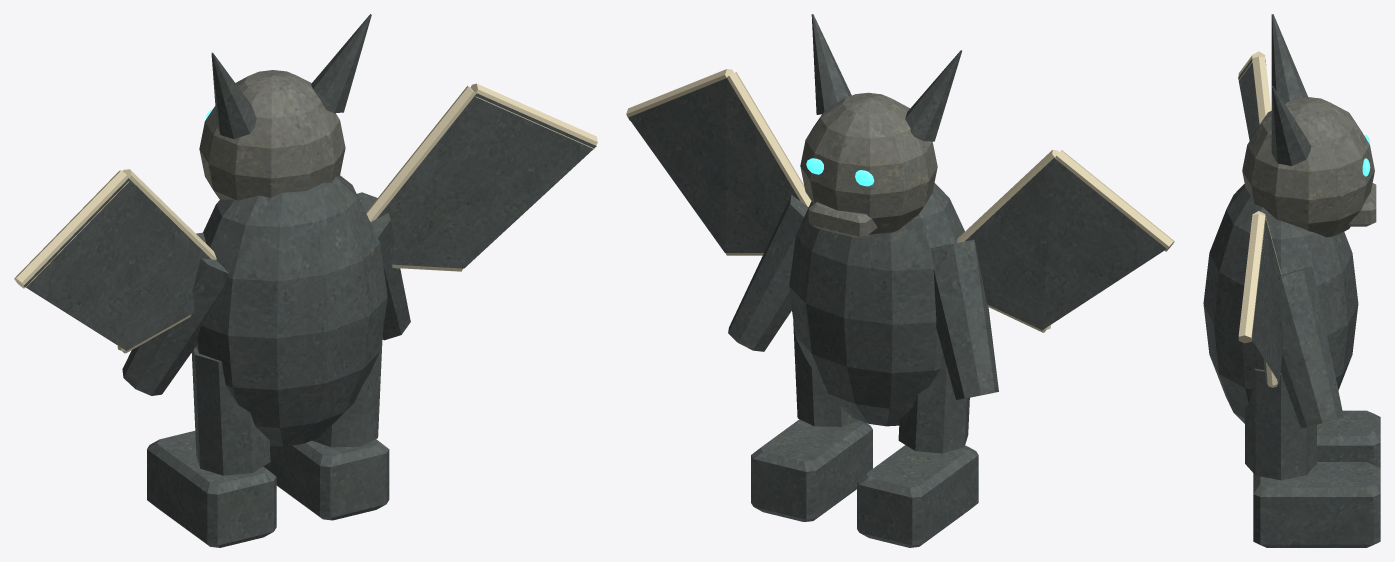
3 views of the same model, side by side, from view 1: azimuth 30°, elevation 25°; view 2: azimuth 150°, elevation 25°; view 3: azimuth 270°, elevation 25° (orthographic). The views are drawn at different scales.
Parts seen in each view (by area): view 1: stone-gargoyle/body; view 2: stone-gargoyle/body; view 3: stone-gargoyle/body.
Boxes of the visible parts, x1,y1,x2,y2 form: stone-gargoyle/body: [14, 14, 597, 547]; stone-gargoyle/body: [626, 14, 1174, 547]; stone-gargoyle/body: [1203, 14, 1380, 547].
Size of the model in its own units: 2.27 by 1.83 by 0.6399.
4 materials, 2 textured.
